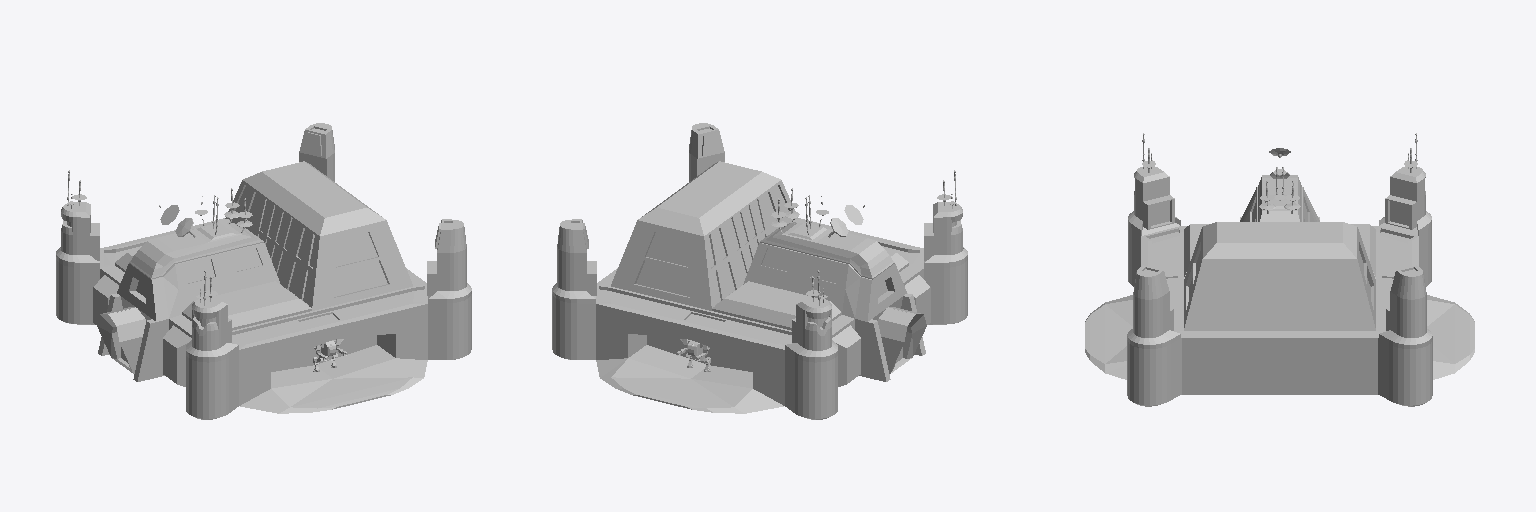
The model's file is Astra_Brigade_Mesh.obj.
3 views of the same model, side by side, from view 1: azimuth 30°, elevation 25°; view 2: azimuth 150°, elevation 25°; view 3: azimuth 270°, elevation 25° (orthographic).
Visible parts, largest first — view 1: StarForgeBrigade; view 2: StarForgeBrigade; view 3: StarForgeBrigade.
Boxes of the visible parts, x1=… form: StarForgeBrigade: x1=56, y1=123, x2=471, y2=419; StarForgeBrigade: x1=552, y1=123, x2=967, y2=419; StarForgeBrigade: x1=1085, y1=133, x2=1474, y2=406.
Bounding box in the file's own units: 28.89 × 15.24 × 33.1.